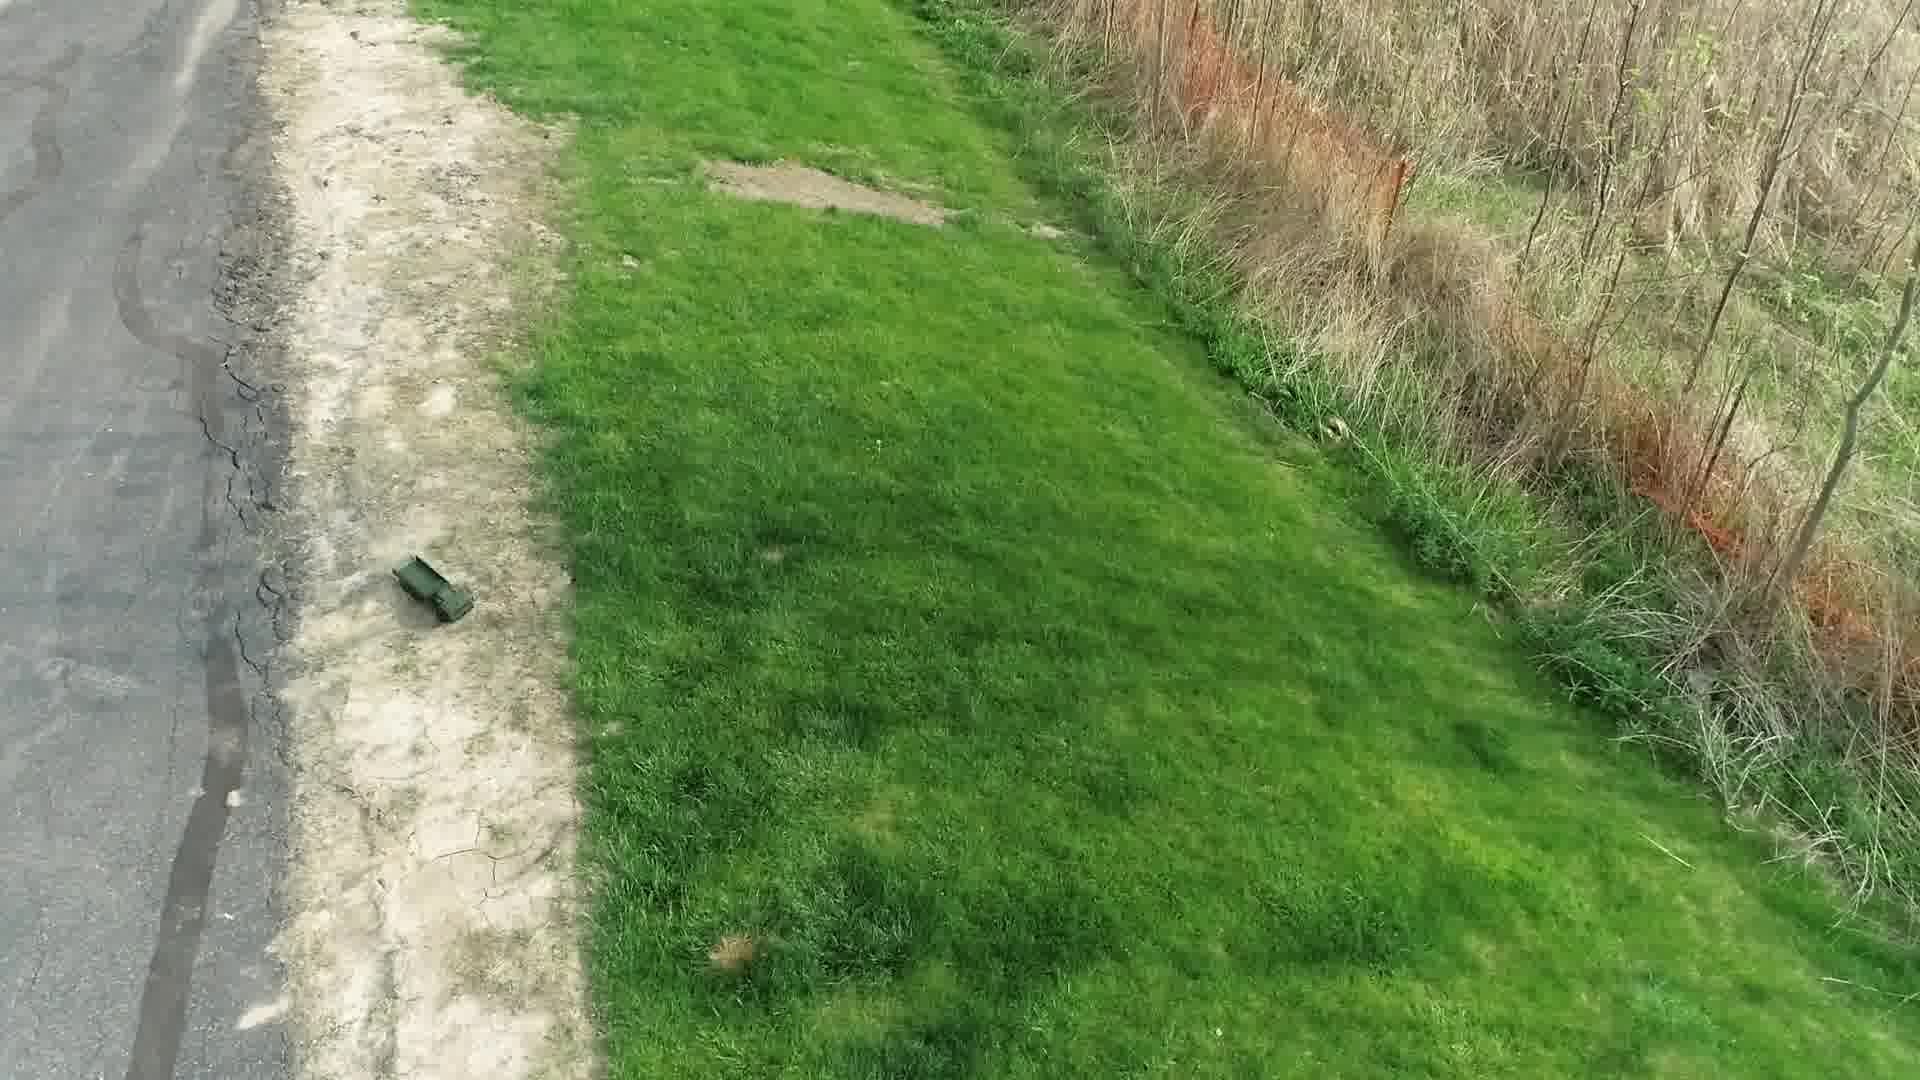transporter9: (385, 551, 476, 628)
